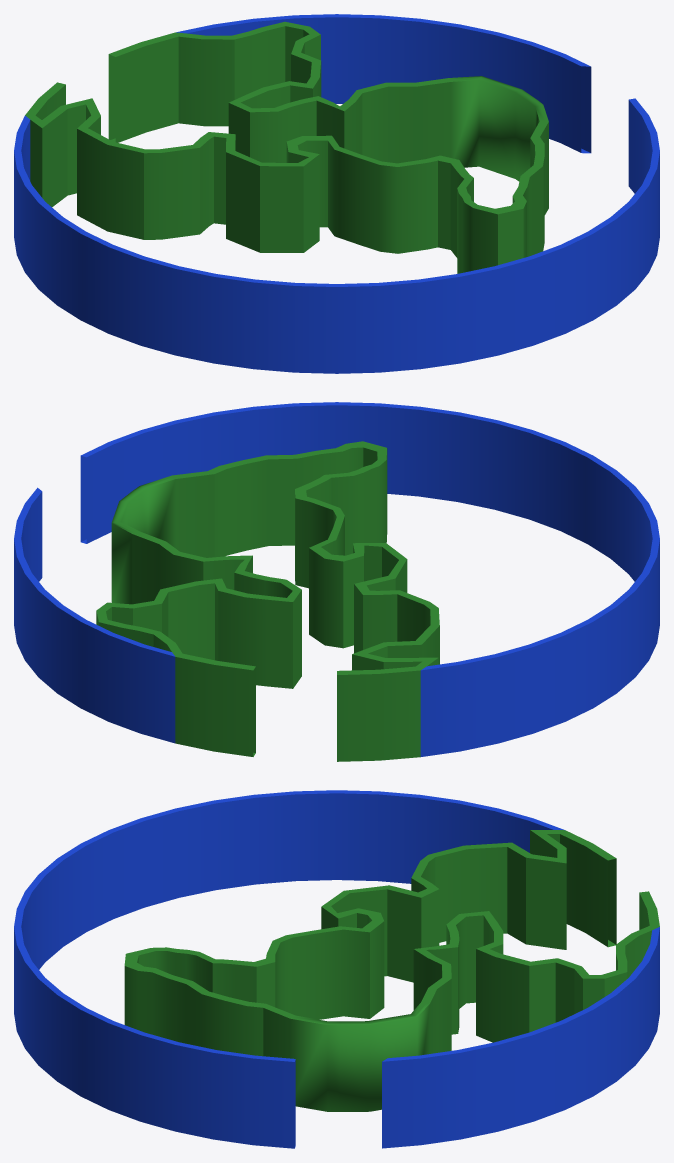
The model's file is earth_cut3.fbx.
3 renders of one model, top to bottom at view 1: azimuth 30°, elevation 25°; view 2: azimuth 150°, elevation 25°; view 3: azimuth 270°, elevation 25°, orthographic.
Parts seen in each view (by area): view 1: Circle; view 2: Circle; view 3: Circle.
Part boxes in pixels (x1,y1,x2,y2): Circle: (14,14,659,373); Circle: (14,402,659,761); Circle: (14,790,659,1148).
Size of the model in its own units: 202 by 30 by 202.
